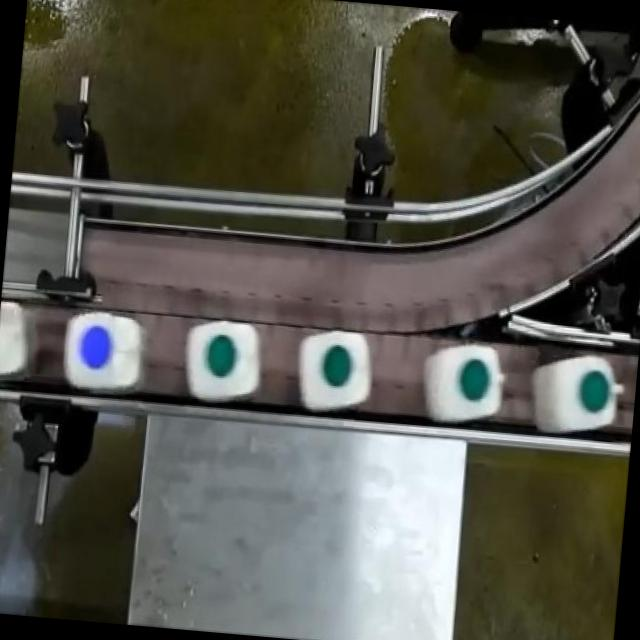blue: (52, 298, 156, 400)
green: (418, 328, 513, 428), (534, 342, 623, 437), (286, 326, 378, 414), (182, 317, 268, 408)
